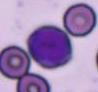L: (27, 26, 72, 68)
